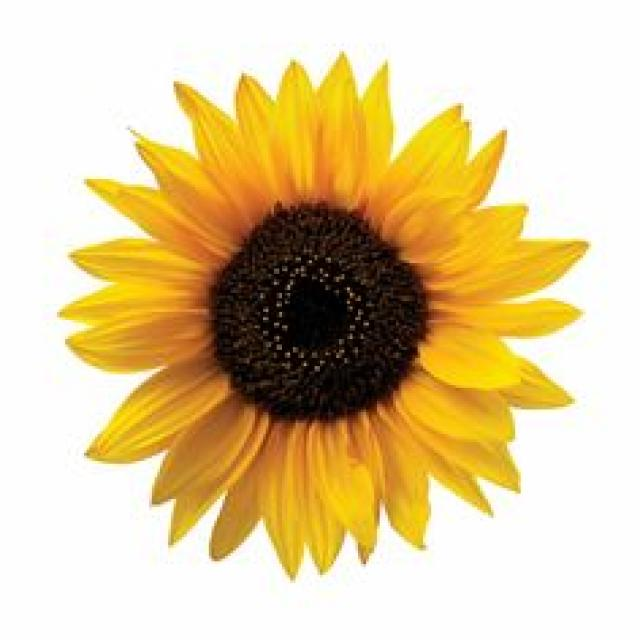sunflower: (50, 50, 595, 587)
